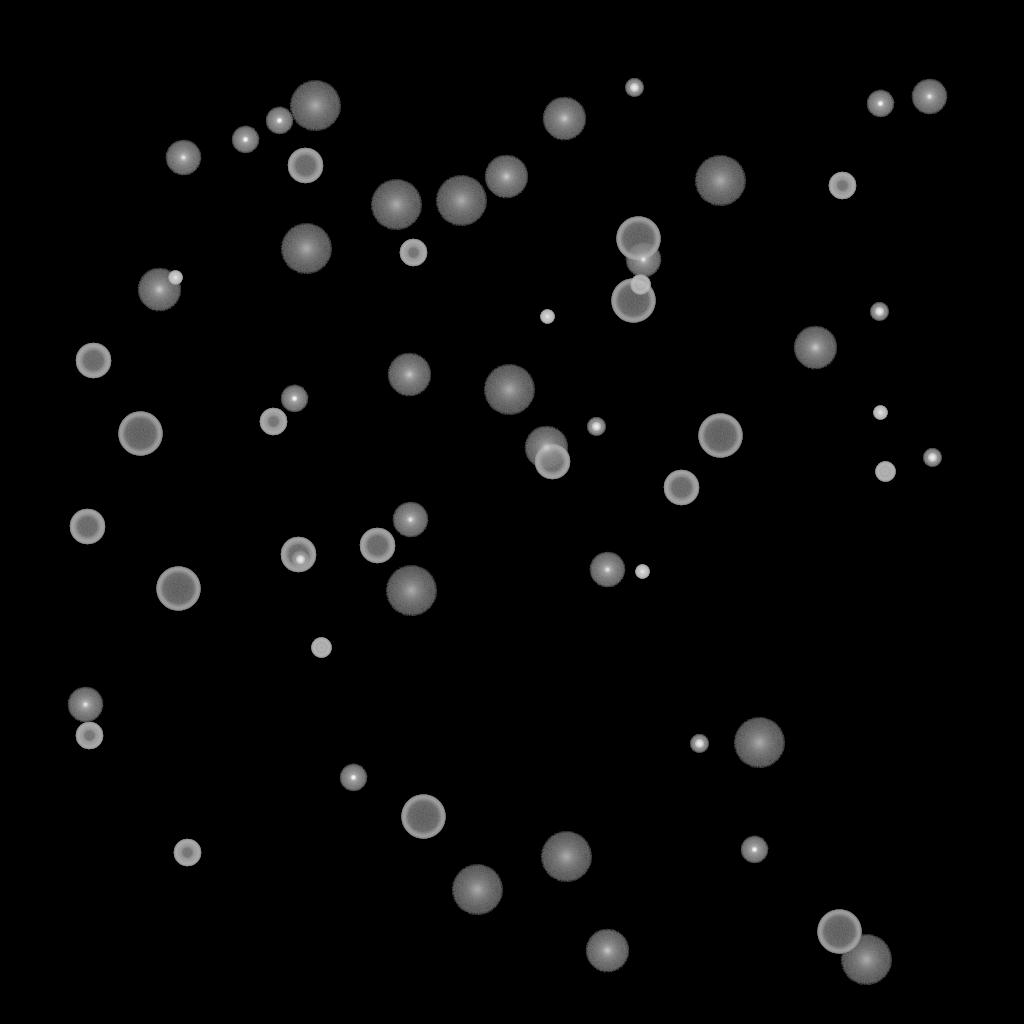depth:-10: (866, 90, 894, 118), (231, 126, 259, 154), (265, 107, 293, 135), (280, 385, 308, 413), (740, 836, 768, 864), (339, 764, 367, 792)
depth:-20: (923, 449, 941, 467), (870, 303, 888, 321), (690, 735, 708, 753), (587, 418, 605, 436), (291, 551, 309, 569), (625, 79, 643, 97)
depth:-30: (635, 565, 649, 579), (168, 271, 182, 285), (540, 310, 554, 324), (873, 406, 887, 420)
depth:-40: (630, 275, 650, 295), (875, 462, 895, 482), (311, 638, 331, 658)
depth:-50: (399, 239, 427, 267), (75, 722, 103, 750), (828, 172, 856, 200), (173, 839, 201, 867), (259, 408, 287, 436)
depth:-60: (534, 444, 570, 480), (359, 528, 395, 564), (69, 509, 105, 545), (287, 148, 323, 184), (280, 537, 316, 573), (663, 470, 699, 506), (75, 343, 111, 379)
depth:-70: (611, 279, 655, 323), (401, 795, 445, 839), (118, 412, 162, 456), (156, 567, 200, 611), (616, 217, 660, 261), (698, 414, 742, 458), (817, 910, 861, 954)
depth:0: (589, 552, 625, 588), (165, 140, 201, 176), (911, 79, 947, 115), (392, 502, 428, 538), (625, 242, 661, 278), (67, 687, 103, 723)
depth:10: (542, 97, 586, 141), (793, 326, 837, 370), (524, 426, 568, 470), (137, 268, 181, 312), (387, 353, 431, 397), (585, 929, 629, 973), (484, 155, 528, 199)
depth:20: (733, 718, 785, 768), (483, 365, 535, 415), (289, 81, 341, 131), (840, 935, 892, 985), (280, 224, 332, 274), (540, 832, 592, 882), (385, 566, 437, 616), (435, 176, 487, 226), (451, 865, 503, 915), (370, 180, 422, 230), (694, 156, 746, 206)
